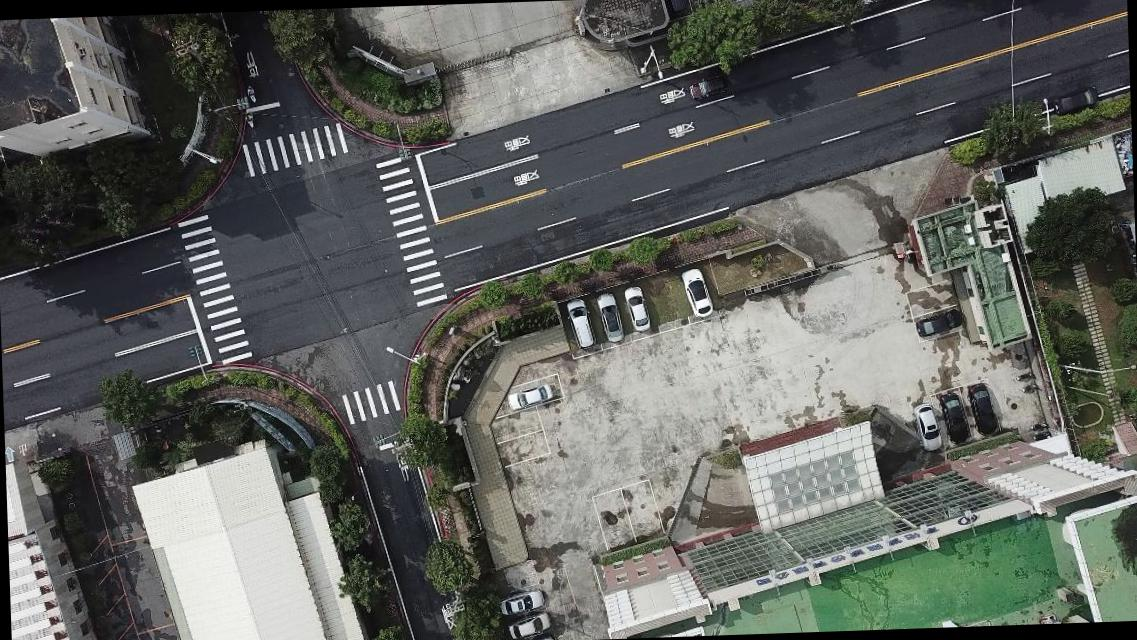vehicle: (1049, 83, 1101, 119), (680, 265, 713, 319), (968, 386, 1000, 437), (940, 393, 970, 447), (504, 382, 556, 411), (914, 403, 944, 453), (596, 292, 624, 345), (507, 608, 553, 640), (688, 73, 736, 103), (564, 300, 593, 348), (498, 590, 546, 618), (915, 312, 962, 338), (624, 285, 648, 332), (858, 0, 897, 8)
